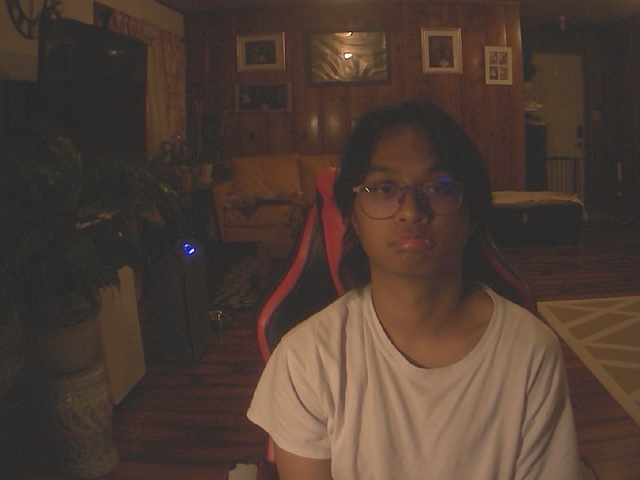sad: (331, 97, 492, 302)
